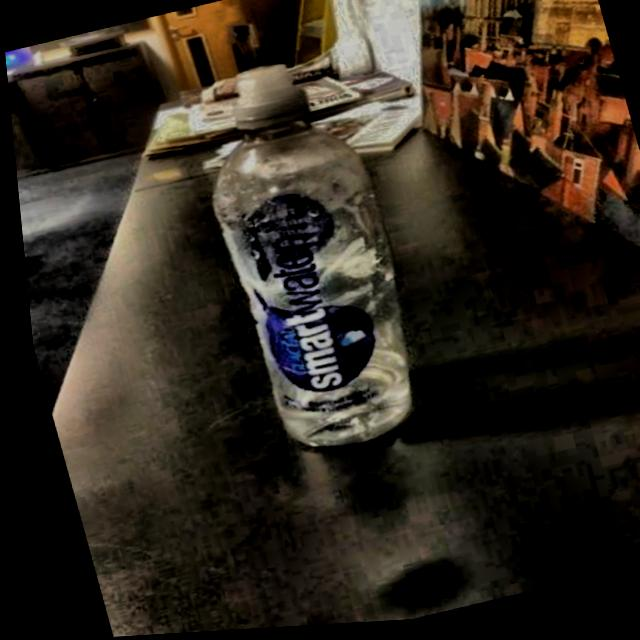Bottles: (157, 33, 461, 482)
